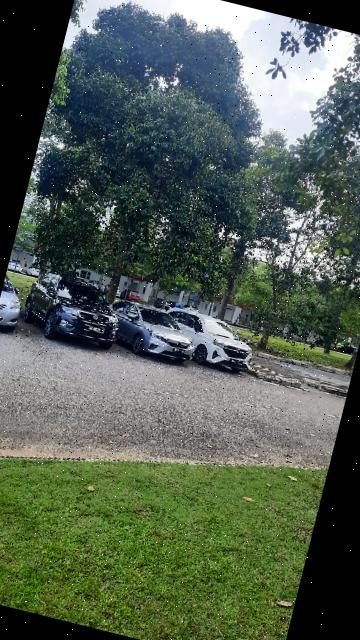License_Plate: (85, 324, 107, 336), (229, 359, 244, 366), (173, 348, 186, 356)
car: (19, 268, 130, 356), (158, 307, 261, 376), (117, 302, 205, 370)
